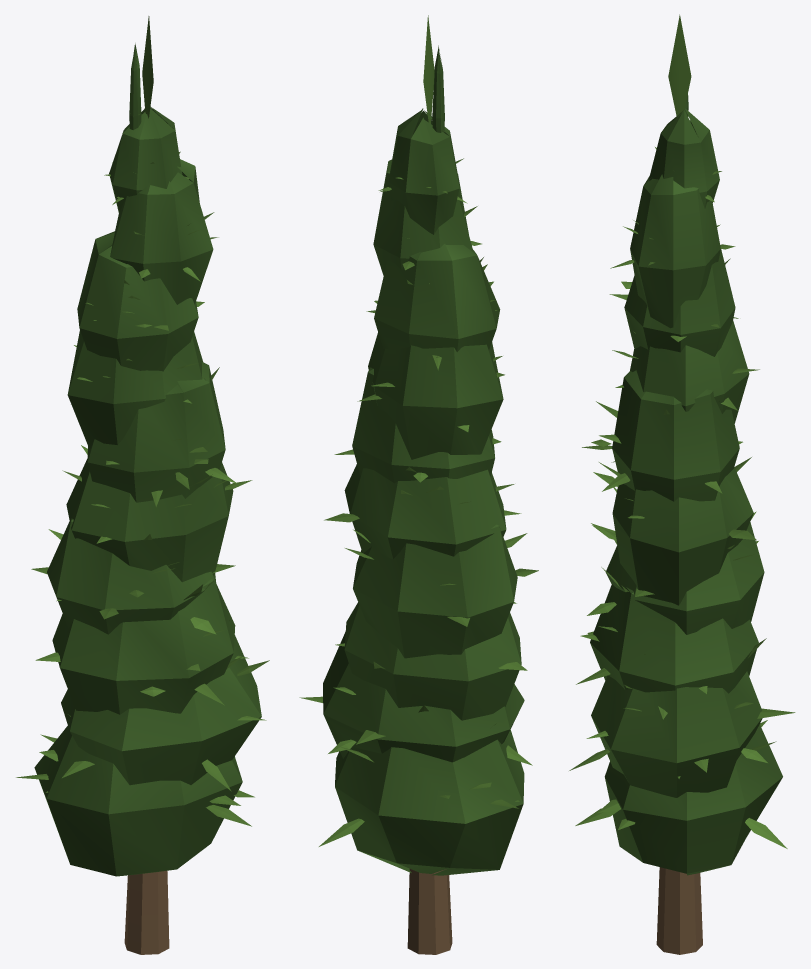
File: cypress.glb
The picture shows the model from 3 angles, left to right: view 1: azimuth 30°, elevation 25°; view 2: azimuth 150°, elevation 25°; view 3: azimuth 270°, elevation 25°; orthographic projection.
Visible parts, largest first — view 1: cypress; view 2: cypress; view 3: cypress.
Boxes of the visible parts, <box> form: cypress: <box>16,16,269,954</box>; cypress: <box>299,15,538,954</box>; cypress: <box>569,14,795,954</box>.
Size of the model in its own units: 1.71 by 6.65 by 1.48.
